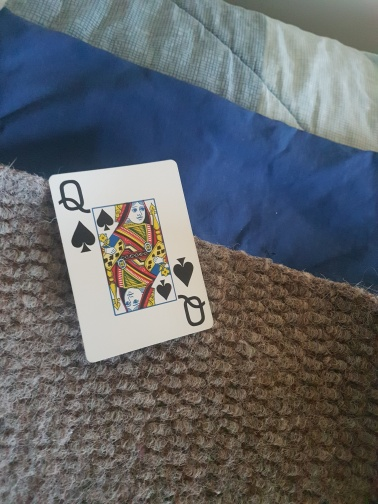queen: (48, 158, 216, 360)
